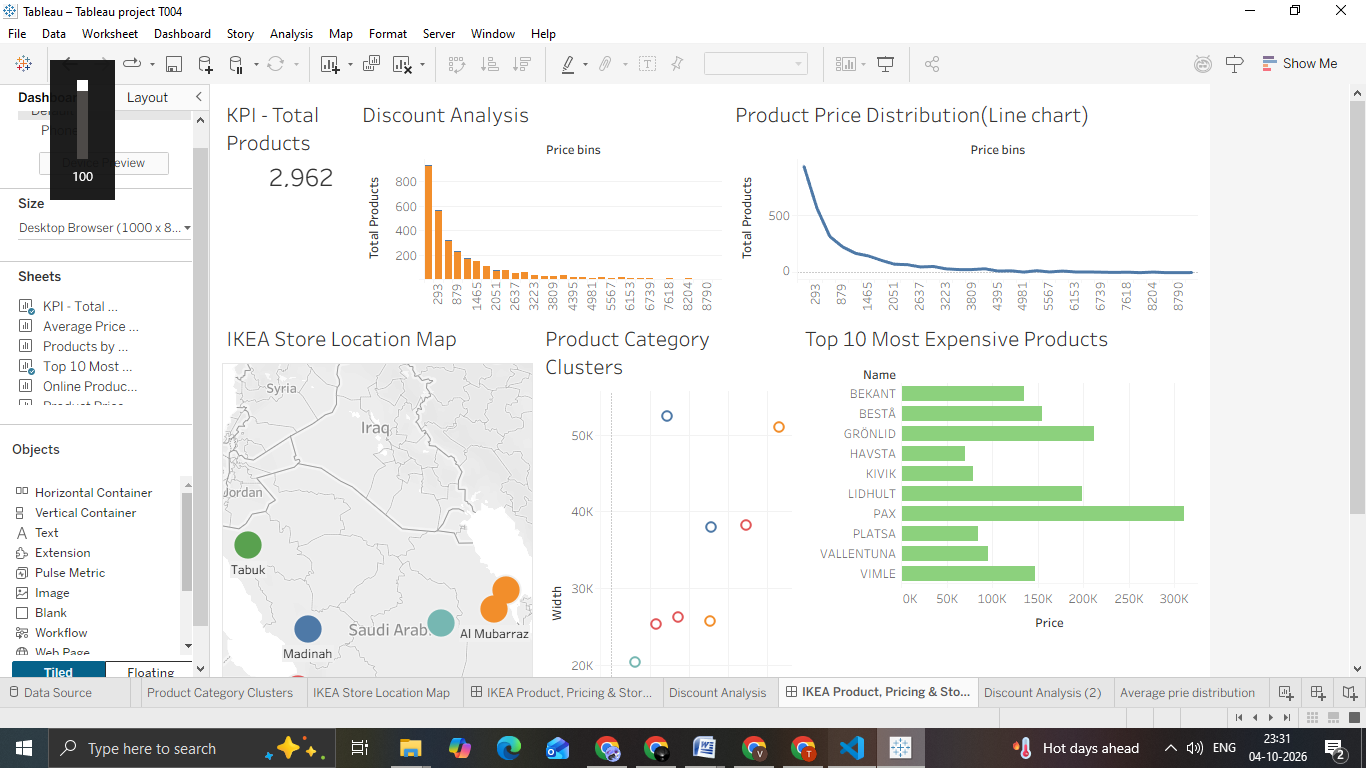

The dashboard page shown, as its layout file describes it:
{"tool":"tableau","page":{"name":"IKEA Product, Pricing & Store Location Analytics (2)","canvas":[1000,800],"ordinal":1},"visuals":[{"type":"worksheet","title":"KPI - Total Products","mark":"Automatic","box":[8,8,136.4,224]},{"type":"worksheet","title":"Discount Analysis","mark":"Automatic","rows":["Calculation_0057226781036544"],"cols":["Price (bin)"],"box":[144.4,8,372.1,224]},{"type":"worksheet","title":"Product Price Distribution","mark":"Line","rows":["Calculation_0057226781036544"],"cols":["Price (bin)"],"box":[516.5,8,475.5,224]},{"type":"worksheet","title":"IKEA Store Location Map","mark":"Automatic","rows":["Latitude"],"cols":["Longitude"],"box":[8,232,319.4,560]},{"type":"worksheet","title":"Product Category Clusters","mark":"Automatic","rows":["width"],"cols":["price"],"box":[327.4,232,259.4,560]},{"type":"worksheet","title":"Top 10 Most Expensive Products","mark":"Bar","rows":["name"],"cols":["price"],"box":[586.8,232,405.2,560]}]}

Visuals, with their boxes on the page's 1000x800 design canvas (x1, y1, x2, y2). These are canvas units, not pixel positions in the 1366x768 screenshot, which may show the page scaled, cropped or inside an application window:
"KPI - Total Products" worksheet: BBox(8, 8, 144, 232)
"Discount Analysis" worksheet: BBox(144, 8, 516, 232)
"Product Price Distribution" worksheet (Line marks): BBox(516, 8, 992, 232)
"IKEA Store Location Map" worksheet: BBox(8, 232, 327, 792)
"Product Category Clusters" worksheet: BBox(327, 232, 587, 792)
"Top 10 Most Expensive Products" worksheet (Bar marks): BBox(587, 232, 992, 792)
